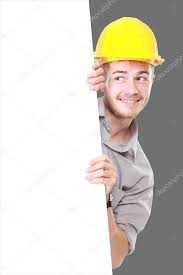Person_wearing_helmet: (88, 12, 164, 92)
